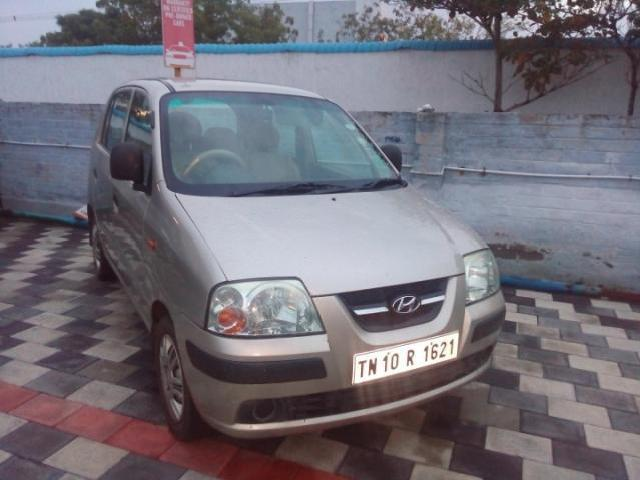T: (356, 357, 368, 378)
